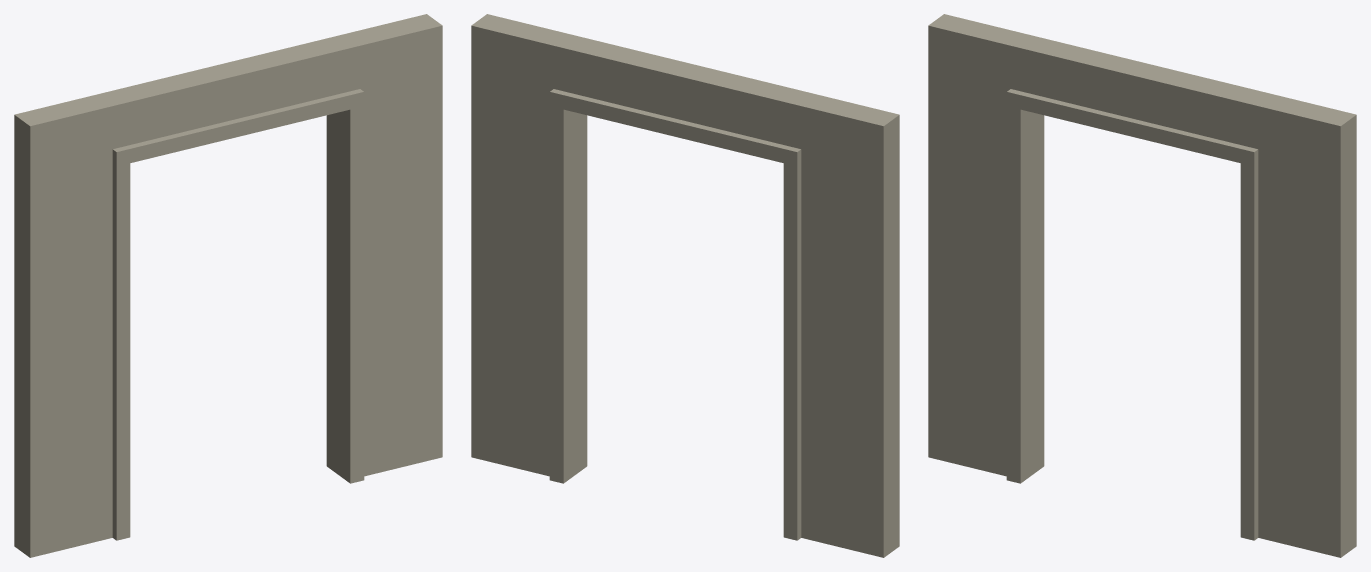
Rendered from victorian_wall_stone_1_door.fbx.
The picture shows the model from 3 angles, left to right: view 1: azimuth 30°, elevation 25°; view 2: azimuth 150°, elevation 25°; view 3: azimuth 330°, elevation 25°; orthographic projection.
Visible parts, largest first — view 1: Cube.230; view 2: Cube.230; view 3: Cube.230.
Part boxes in pixels (x1,y1,x2,y2): Cube.230: [14, 14, 442, 557]; Cube.230: [471, 14, 899, 557]; Cube.230: [928, 14, 1356, 557].
Bounding box in the file's own units: 300 × 300 × 30.
